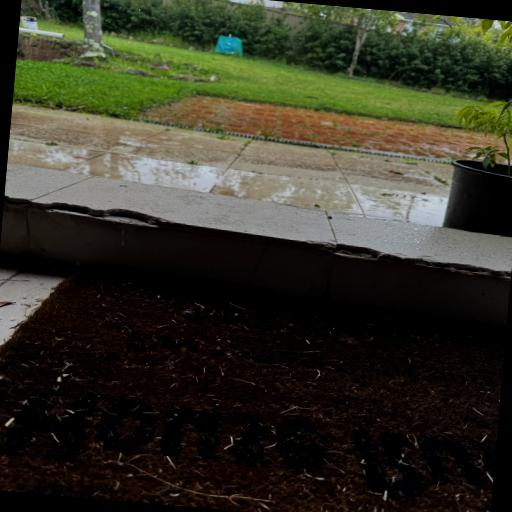step: (0, 165, 512, 328)
